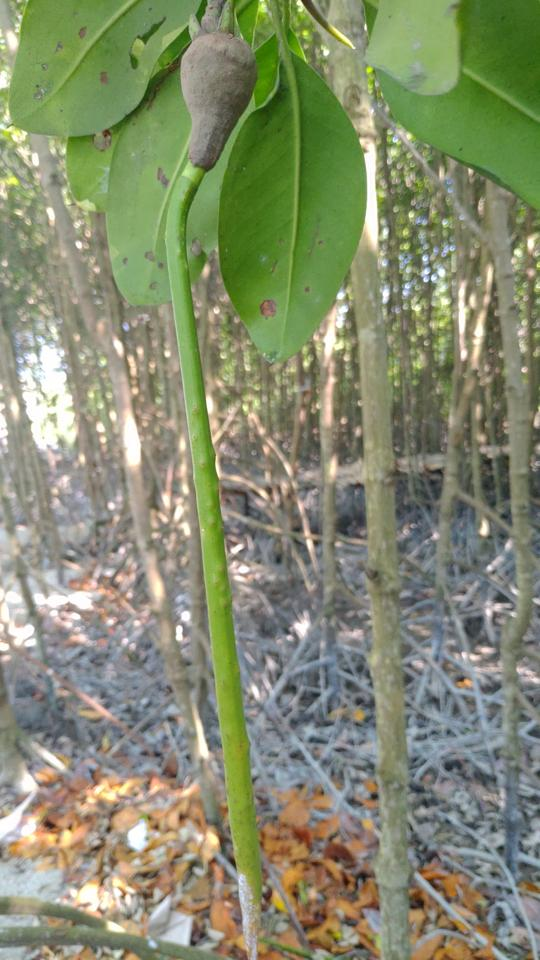setengah matang: (154, 15, 304, 958)
